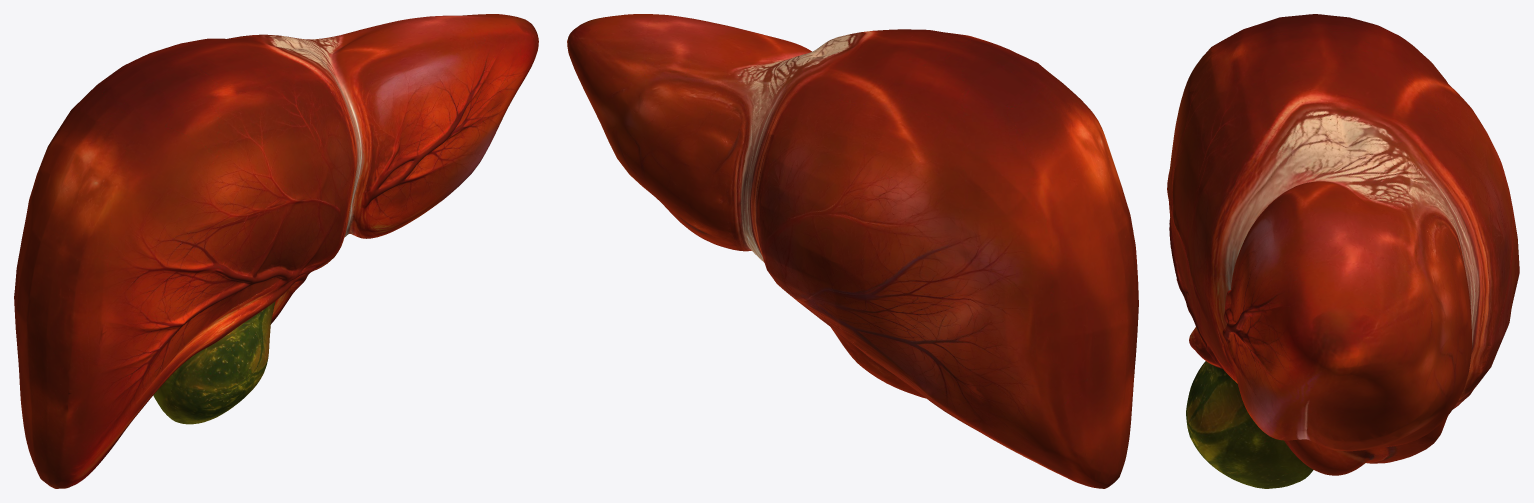
The model's file is liver.glb.
The picture shows the model from 3 angles, left to right: view 1: azimuth 30°, elevation 25°; view 2: azimuth 150°, elevation 25°; view 3: azimuth 270°, elevation 25°; orthographic projection. The views are drawn at different scales.
Size of the model in its own units: 1.9 by 1.36 by 0.8254.
1 material, 1 textured.
